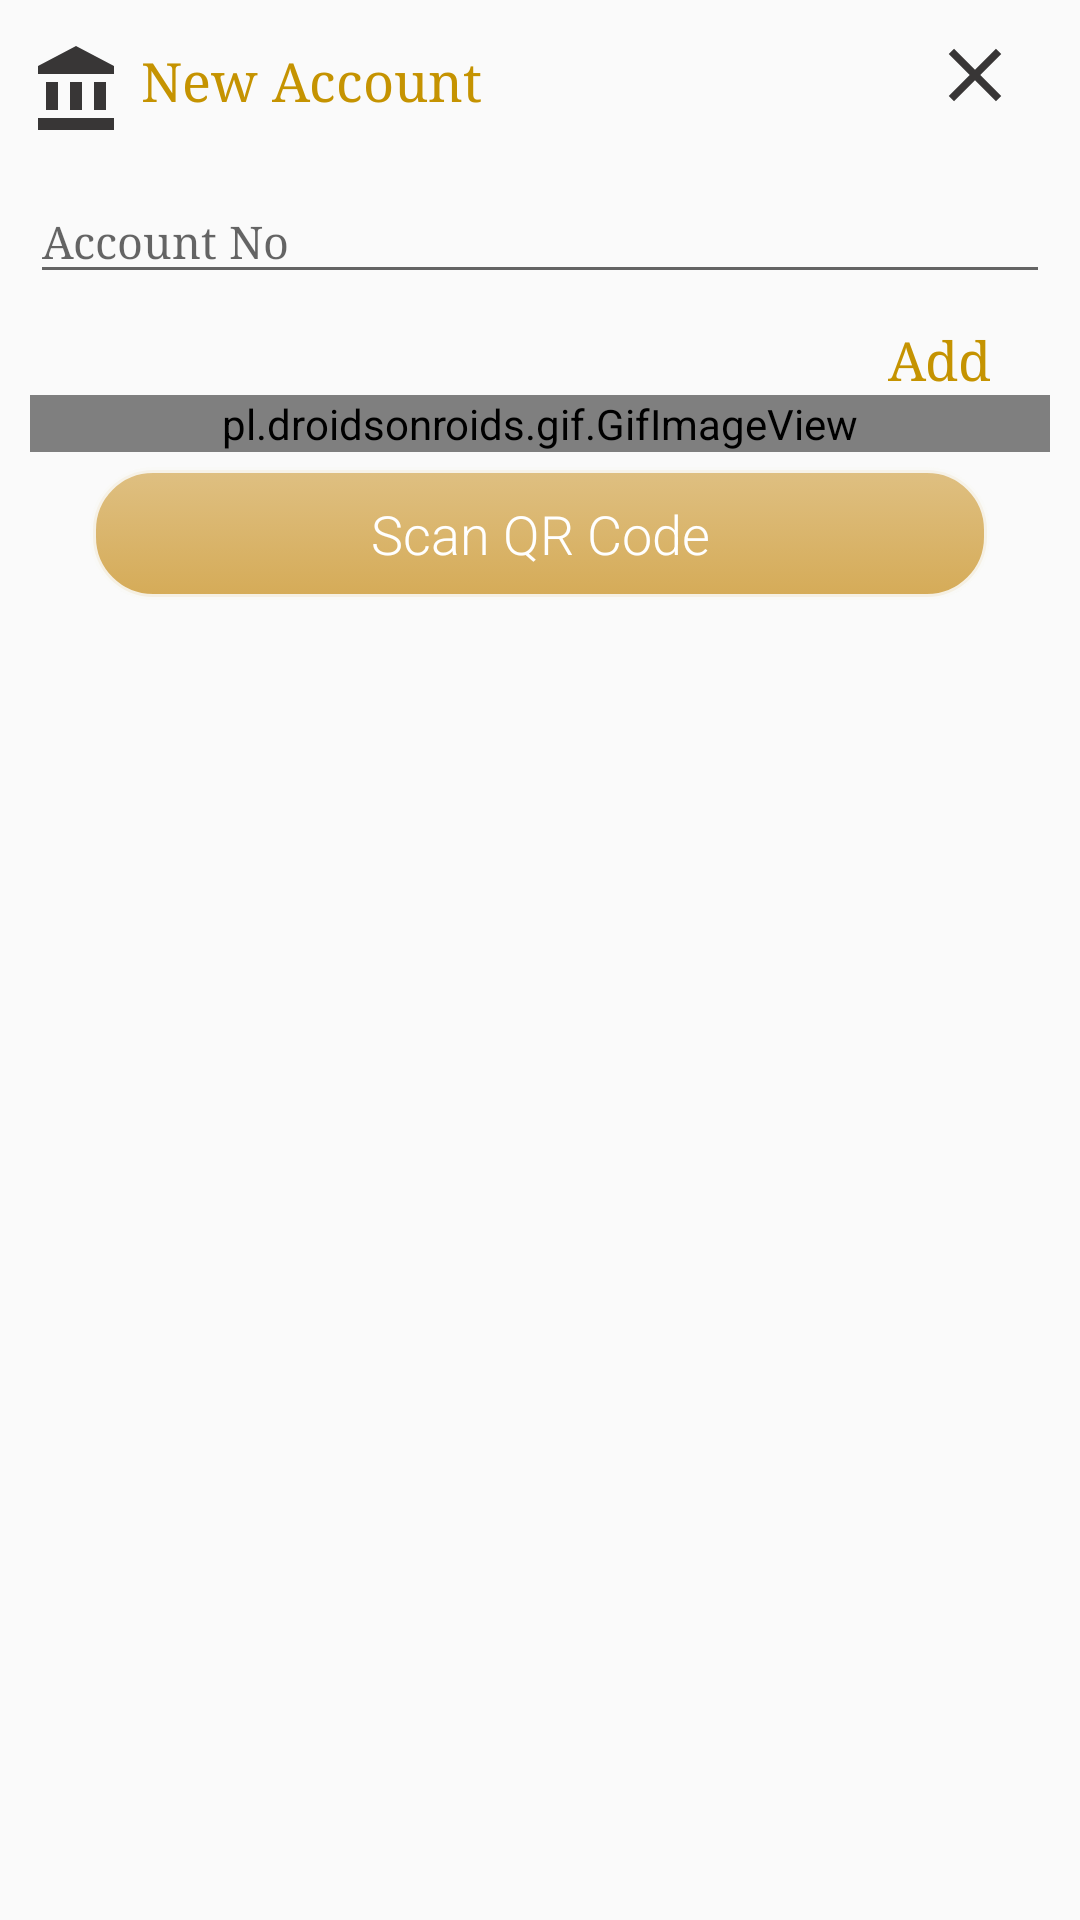

Screen size 1080px×1920px. Icon name, then its center in pixels as point (x, y):
bank: point (76, 88)
close: point (975, 75)
